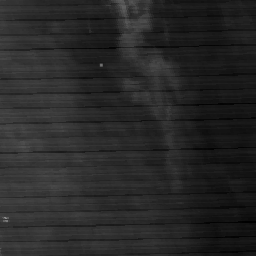Target: (98, 61, 104, 68)
